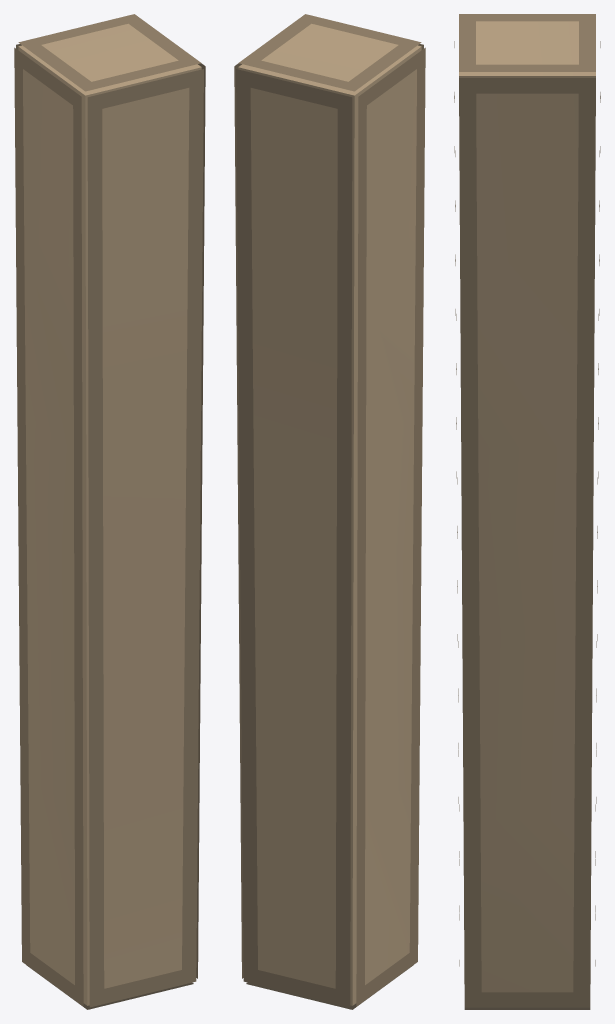
The model's file is peg.glb.
3 views of the same model, side by side, from view 1: azimuth 30°, elevation 25°; view 2: azimuth 150°, elevation 25°; view 3: azimuth 270°, elevation 25° (orthographic). The views are drawn at different scales.
Visible parts, largest first — view 1: peg; view 2: peg; view 3: peg.
Boxes of the visible parts, box(x1,y1,x2,y2) form: peg: box(14, 14, 205, 1009); peg: box(234, 14, 425, 1009); peg: box(454, 14, 600, 1009).
Bounding box in the file's own units: 0.0128 × 0.0908 × 0.0128.
